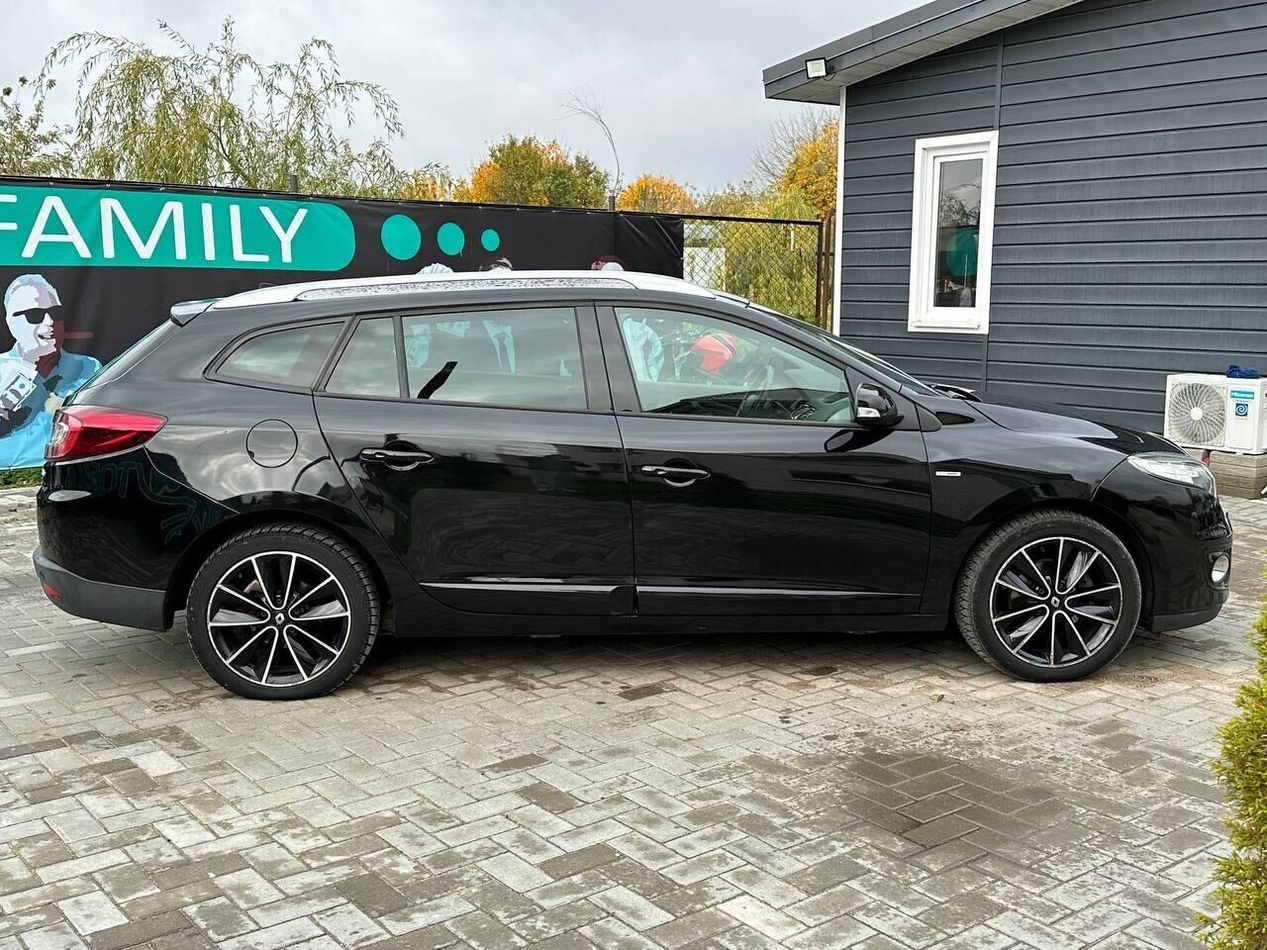Megane_2012-2014: (22, 268, 1240, 713)
